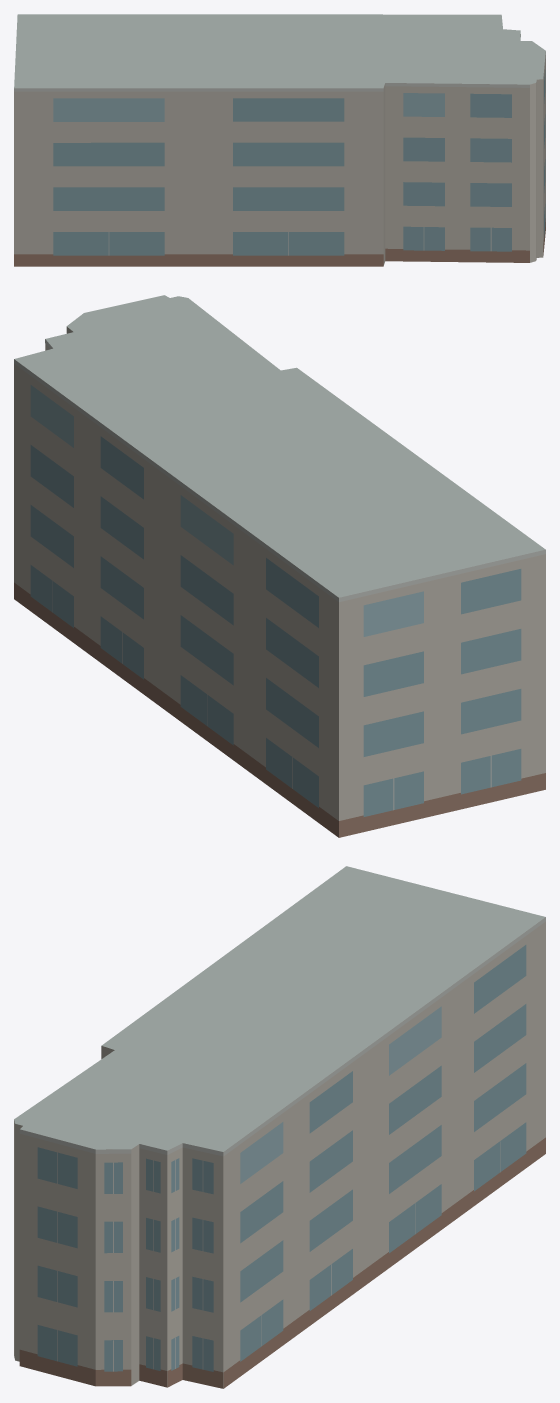
File: survey-upis-33002942.glb
3 views of the same model, one above another, from view 1: azimuth 30°, elevation 25°; view 2: azimuth 150°, elevation 25°; view 3: azimuth 270°, elevation 25° (orthographic). The views are drawn at different scales.
Parts seen in each view (by area): view 1: survey-upis-33002942.tmp; view 2: survey-upis-33002942.tmp; view 3: survey-upis-33002942.tmp.
Part boxes in pixels (x1,y1,x2,y2): survey-upis-33002942.tmp: [14, 14, 545, 266]; survey-upis-33002942.tmp: [14, 295, 545, 837]; survey-upis-33002942.tmp: [14, 866, 545, 1388].
Bounding box in the file's own units: 34.2 × 13.2 × 26.87.
